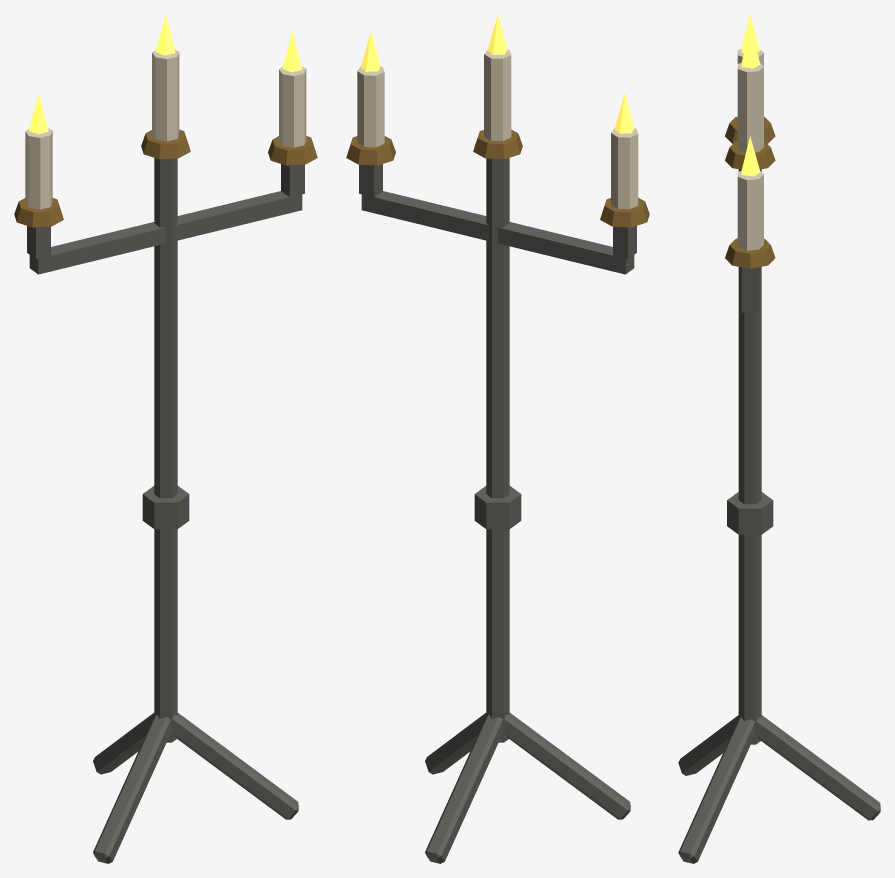
The model's file is candelabrum.glb.
3 views of the same model, side by side, from view 1: azimuth 30°, elevation 25°; view 2: azimuth 150°, elevation 25°; view 3: azimuth 270°, elevation 25° (orthographic).
Parts seen in each view (by area): view 1: Candelabrum; view 2: Candelabrum; view 3: Candelabrum.
Part boxes in pixels (box(x1,y1,x2,y2)): Candelabrum: box(14, 15, 317, 863); Candelabrum: box(346, 15, 649, 863); Candelabrum: box(678, 14, 880, 863).
Size of the model in its own units: 0.588 by 1.51 by 0.351.
